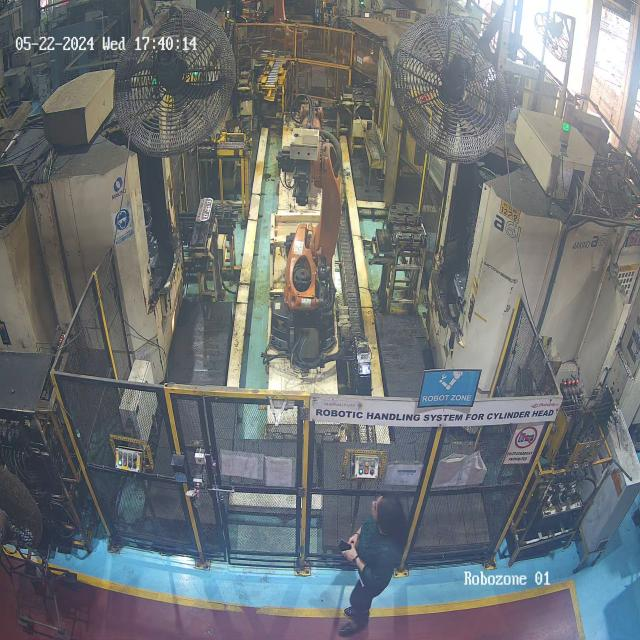person: (307, 484, 422, 640)
